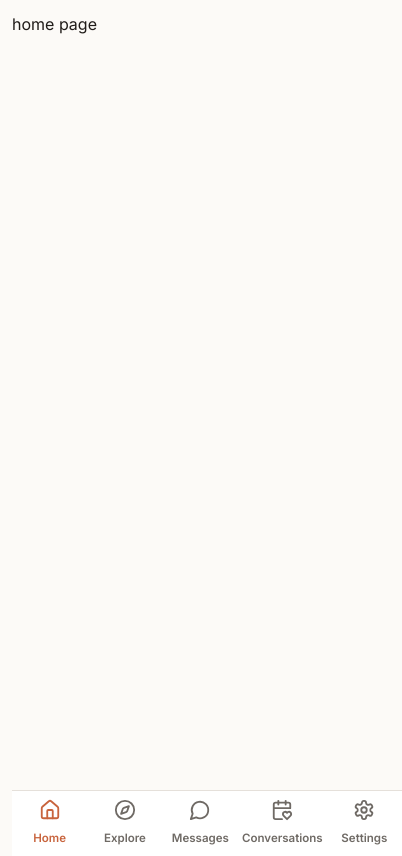
Scenario: mobile bottom navigation › renders Settings + Explore in the bar and navigates to them
Click the link "Settings" at (364, 822), box [341,799,387,845]
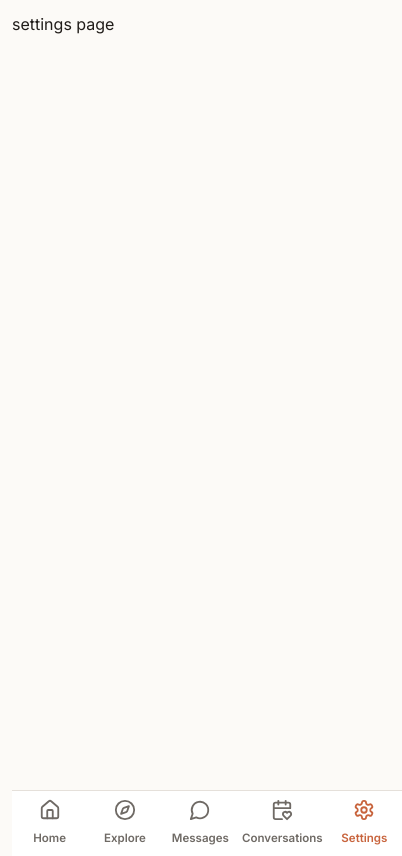
Check: the text "settings page" is shown, box [12,14,114,34]
